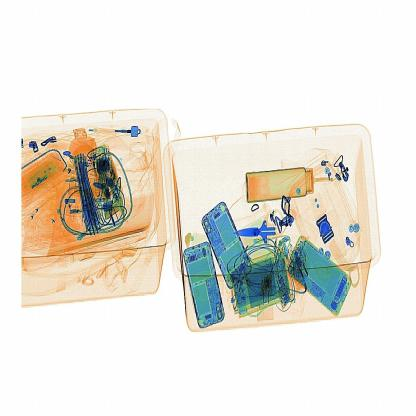gun: (228, 212, 296, 248)
